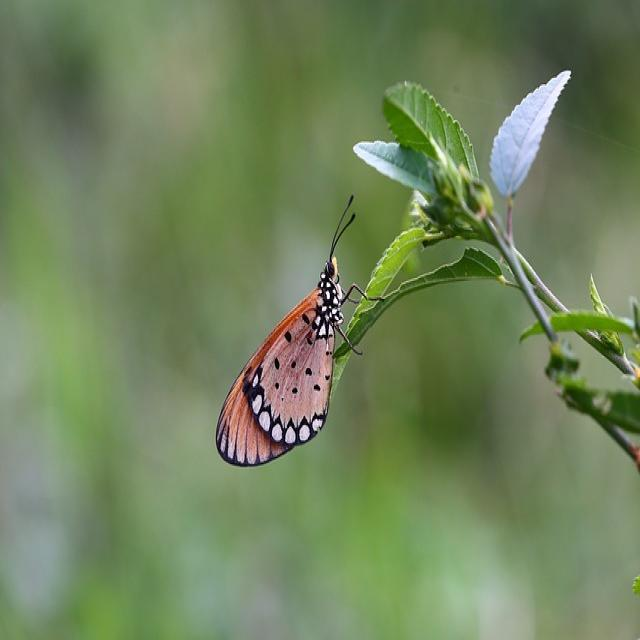butterfly: (215, 197, 378, 469)
